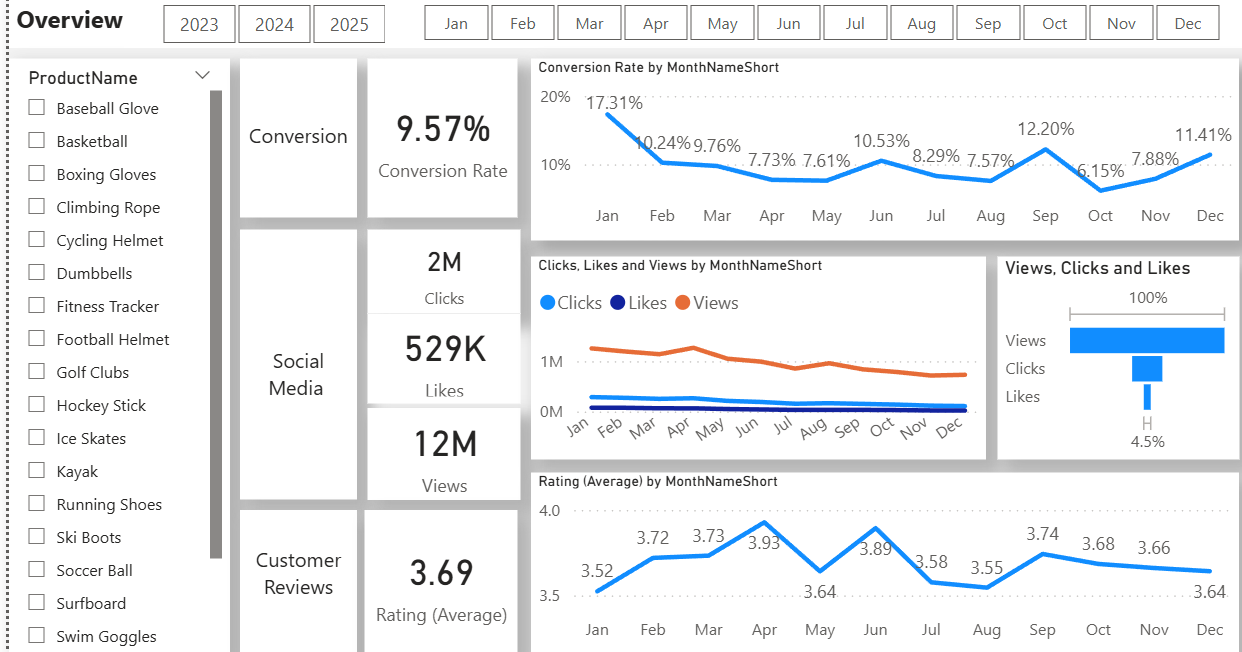

What the dashboard file says about the page in this screenshot:
{"tool":"powerbi","page":{"name":"Overview","canvas":[1280,720],"ordinal":0},"visuals":[{"type":"textbox","box":[0,0,1021,36],"z":0},{"type":"slicer","fields":{"Values":["products.ProductName"]},"box":[0,43,147,397],"z":1000},{"type":"textbox","box":[154,43,78,106],"z":2000},{"type":"textbox","box":[154,157,78,180],"z":3000},{"type":"textbox","box":[154,344,78,96],"z":4000},{"type":"card","fields":{"Values":["Calculations.Conversion Rate"]},"box":[239,43,100,106],"z":5000},{"type":"card","fields":{"Values":["Calculations.Clicks"]},"box":[239,157,102,56],"z":6000},{"type":"card","fields":{"Values":["Calculations.Views"]},"box":[239,276,102,61],"z":7000},{"type":"card","fields":{"Values":["Calculations.Likes"]},"box":[239,213,102,60],"z":8000},{"type":"card","fields":{"Values":["Calculations.Rating (Average)"]},"box":[237,344,102,96],"z":9000},{"type":"slicer","fields":{"Values":["Calender.Date.Variation.Date Hierarchy.Year"]},"box":[77,0,198,36],"z":10000},{"type":"slicer","fields":{"Values":["Calender.MonthNameShort"]},"box":[251,0,580,36],"z":11000},{"type":"lineChart","fields":{"Y":["Calculations.Conversion Rate"],"Category":["Calender.MonthNameShort"]},"box":[348,43,472,121],"z":12000},{"type":"lineChart","fields":{"Category":["Calender.MonthNameShort"],"Y":["Calculations.Clicks","Calculations.Likes","Calculations.Views"]},"box":[348,175,303,135],"z":13000},{"type":"funnel","fields":{"Y":["Calculations.Views","Calculations.Clicks","Calculations.Likes"]},"box":[659,175,161,135],"z":13001},{"type":"lineChart","fields":{"Category":["Calender.MonthNameShort"],"Y":["Calculations.Rating (Average)"]},"box":[348,319,472,121],"z":13002}]}

Visuals, with their boxes on the page's 1280x720 design canvas (x1, y1, x2, y2). These are canvas units, not pixel positions in the 1242x652 screenshot, which may show the page scaled, cropped or inside an application window:
textbox: region(0, 0, 1021, 36)
slicer - products.ProductName: region(0, 43, 147, 440)
textbox: region(154, 43, 232, 149)
textbox: region(154, 157, 232, 337)
textbox: region(154, 344, 232, 440)
card - Calculations.Conversion Rate: region(239, 43, 339, 149)
card - Calculations.Clicks: region(239, 157, 341, 213)
card - Calculations.Views: region(239, 276, 341, 337)
card - Calculations.Likes: region(239, 213, 341, 273)
card - Calculations.Rating (Average): region(237, 344, 339, 440)
slicer - Calender.Date.Variation.Date Hierarchy.Year: region(77, 0, 275, 36)
slicer - Calender.MonthNameShort: region(251, 0, 831, 36)
lineChart - Calculations.Conversion Rate x Calender.MonthNameShort: region(348, 43, 820, 164)
lineChart - Calender.MonthNameShort x Calculations.Clicks: region(348, 175, 651, 310)
funnel - Calculations.Views x Calculations.Clicks: region(659, 175, 820, 310)
lineChart - Calender.MonthNameShort x Calculations.Rating (Average): region(348, 319, 820, 440)
